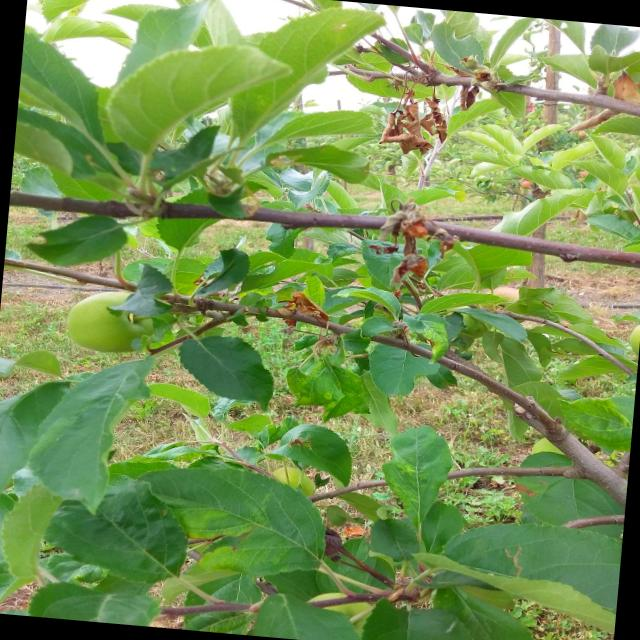-FireBlight-: (378, 49, 455, 160), (384, 200, 445, 278), (286, 288, 326, 324)
